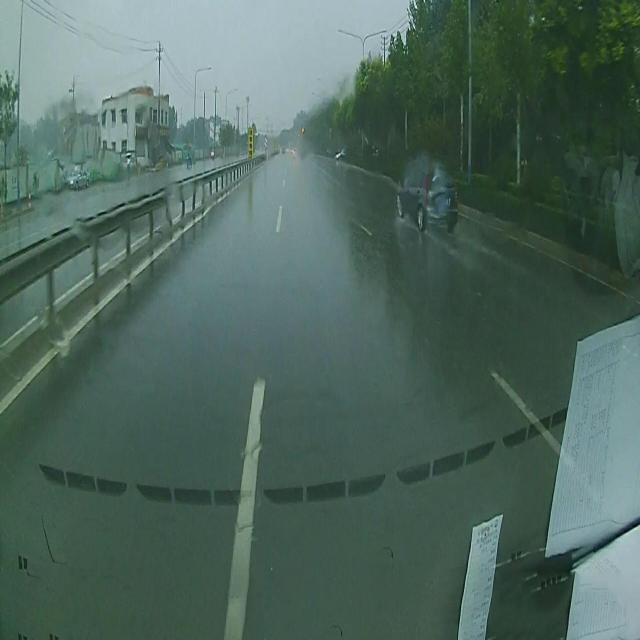car: (396, 158, 459, 231), (62, 158, 90, 192), (334, 146, 346, 160)
